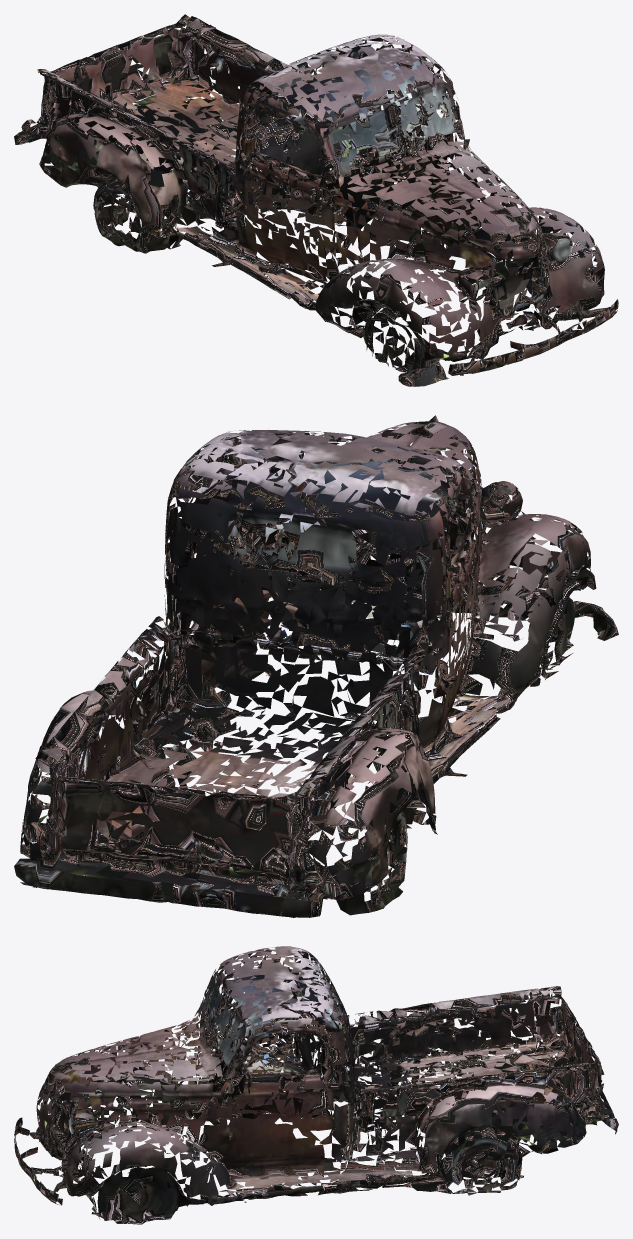
Rendered from truck.glb.
3 views of the same model, one above another, from view 1: azimuth 30°, elevation 25°; view 2: azimuth 150°, elevation 25°; view 3: azimuth 270°, elevation 25° (orthographic). The views are drawn at different scales.
Visible parts, largest first — view 1: Object_2; view 2: Object_2; view 3: Object_2.
Part boxes in pixels (left/top/right/bottom): Object_2: left=14, top=14, right=618, bottom=386; Object_2: left=14, top=415, right=618, bottom=917; Object_2: left=14, top=946, right=618, bottom=1224.
Bounding box in the file's own units: 8.8 × 5.89 × 16.68.
Materials: 1 (1 with a texture image).
